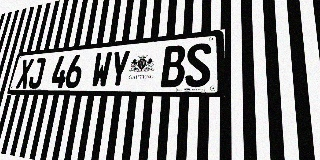4: (50, 55, 70, 88)
6: (64, 54, 85, 88)
B: (161, 45, 186, 87)
J: (27, 57, 46, 88)
S: (185, 42, 211, 87)
W: (90, 51, 112, 88)
X: (16, 59, 34, 89)
Y: (108, 50, 131, 88)
